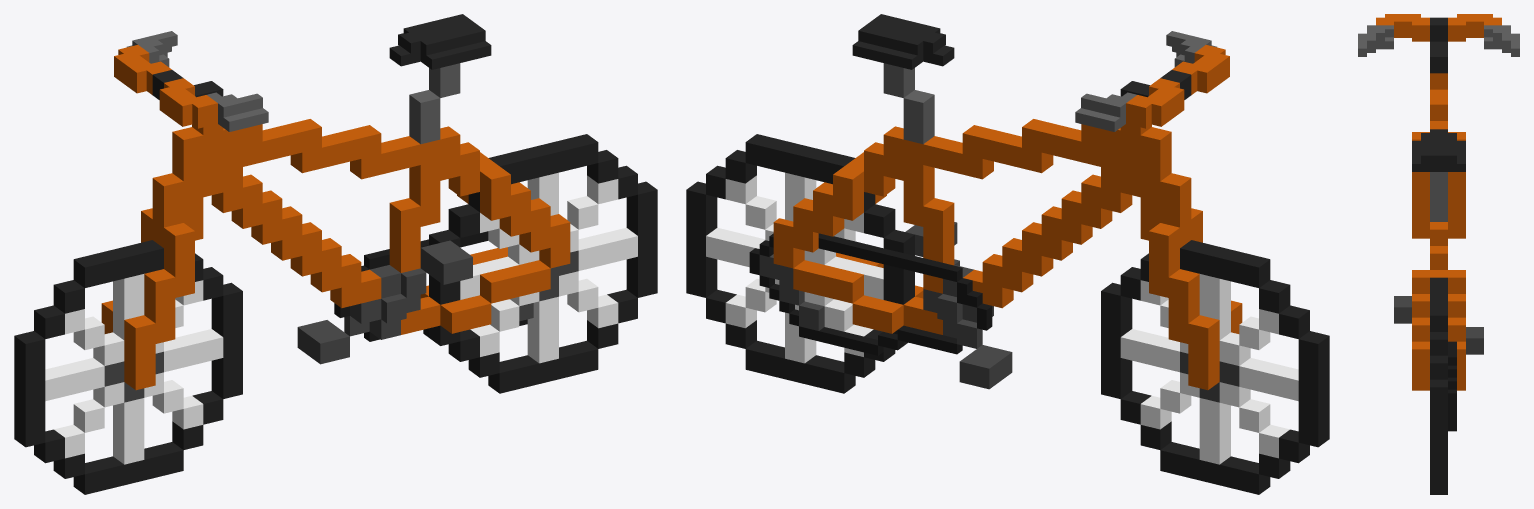
The model's file is Bike.obj.
3 views of the same model, side by side, from view 1: azimuth 30°, elevation 25°; view 2: azimuth 150°, elevation 25°; view 3: azimuth 270°, elevation 25° (orthographic). The views are drawn at different scales.
Bounding box in the file's own units: 6.4 × 3.8 × 1.8.
1 material, 1 textured.
